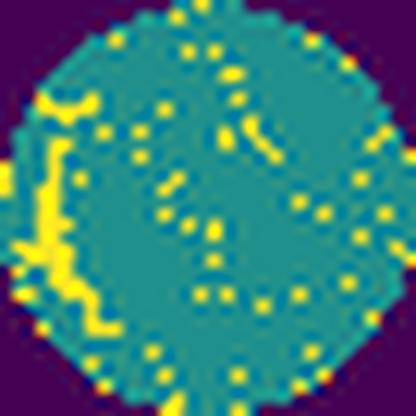Loc: (13, 137, 124, 340)
